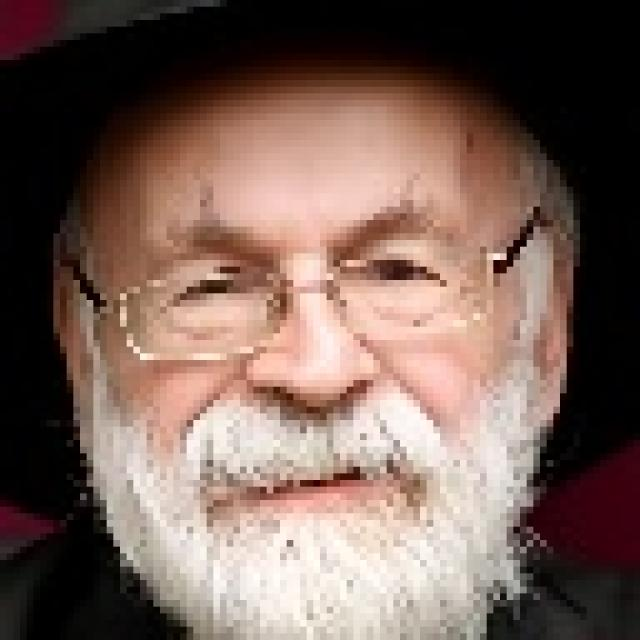angry: (37, 58, 573, 640)
